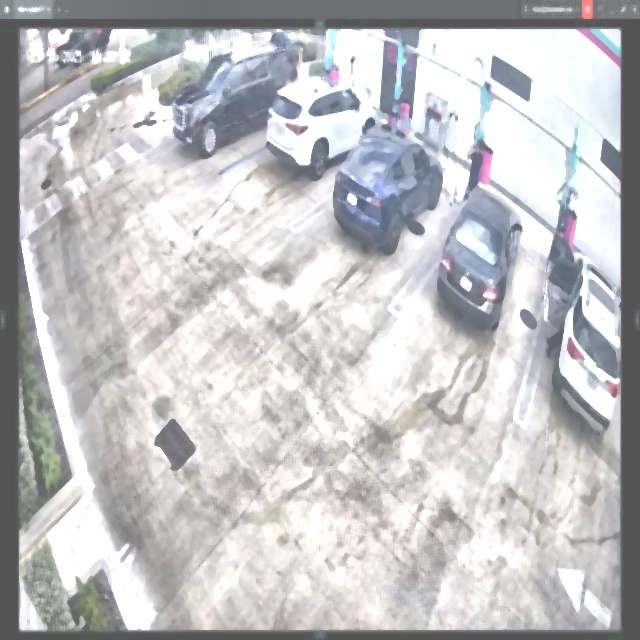Car: (334, 125, 444, 251), (439, 185, 523, 328), (266, 78, 379, 178)
